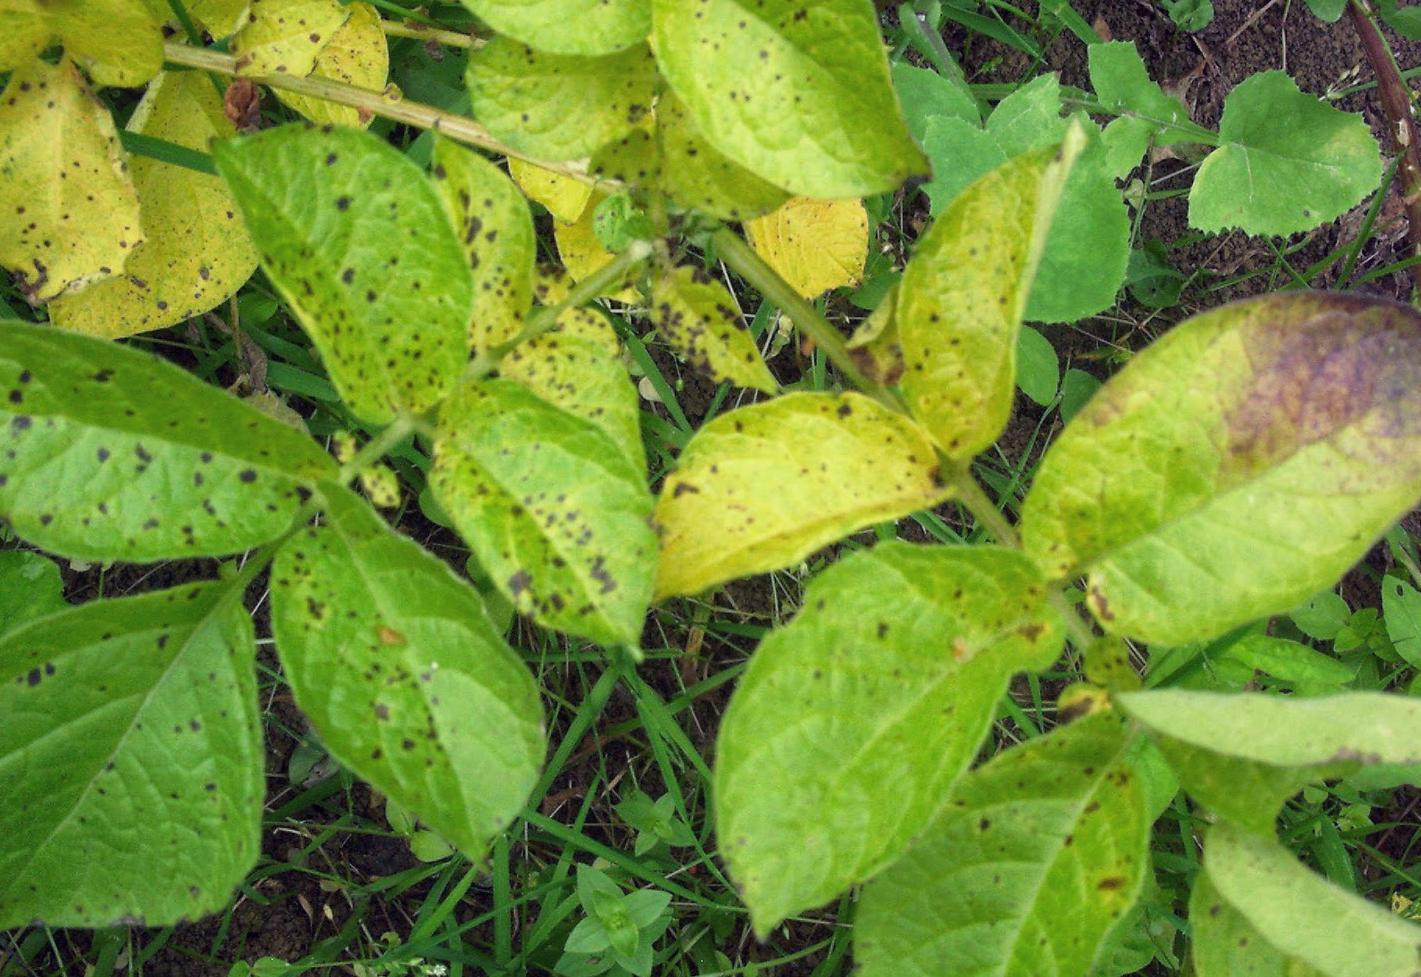Tomato Septoria leaf spot: (689, 536, 1065, 957), (282, 458, 566, 869), (232, 92, 488, 487), (0, 319, 323, 571), (425, 358, 650, 668), (888, 137, 1076, 485), (624, 390, 938, 597), (0, 66, 151, 303), (623, 252, 790, 398)
